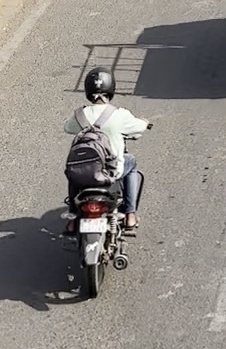BikeWithRider: (53, 62, 156, 301)
Helmet: (79, 62, 119, 106)
